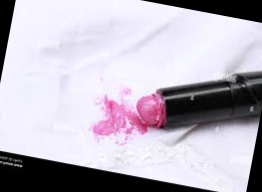lipstick: (87, 86, 147, 149)
